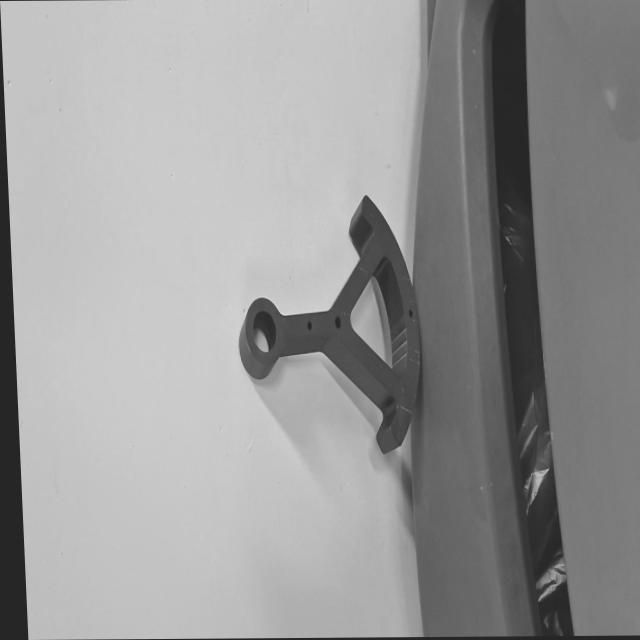haptic: (231, 192, 427, 456)
